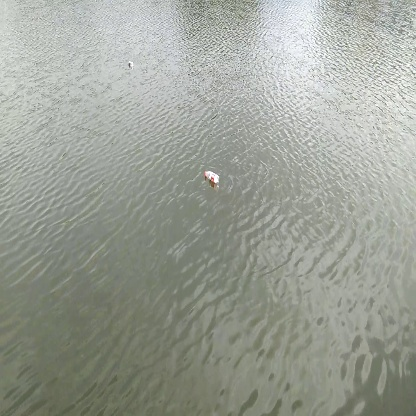bottle: (200, 165, 224, 191)
